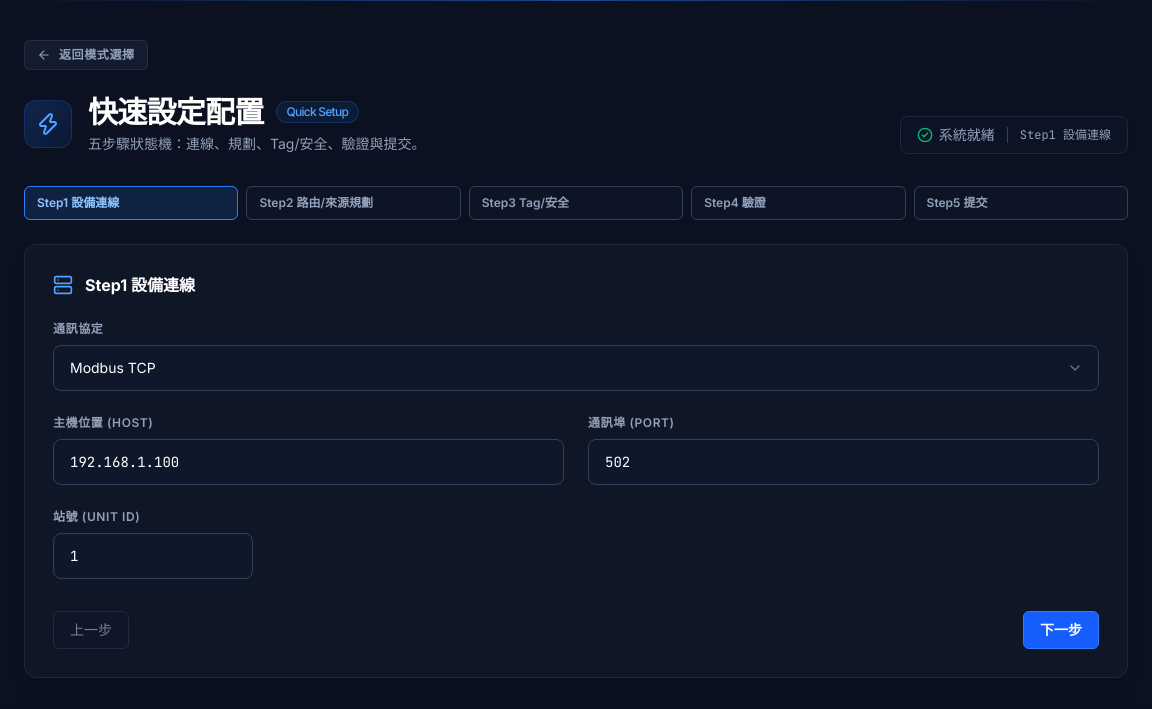
Scenario: GatewayQuickSetupPage › blocks moving to next step when required fields are invalid
Click the button with test id "step-next-btn": (1061, 630) [1023,611,1099,649]
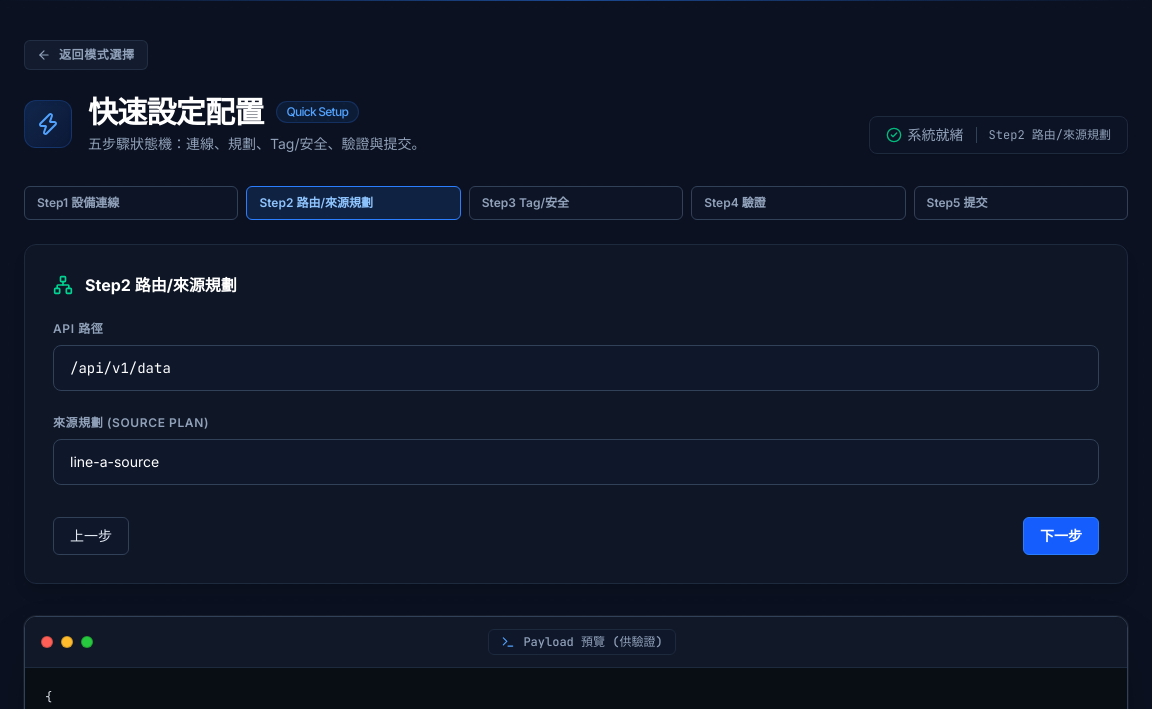
Expected: the heading "Step2 路由/來源規劃" is shown, [85,273,237,297]
Clear the field with test id "route-input": (576, 368) [53,345,1099,391]
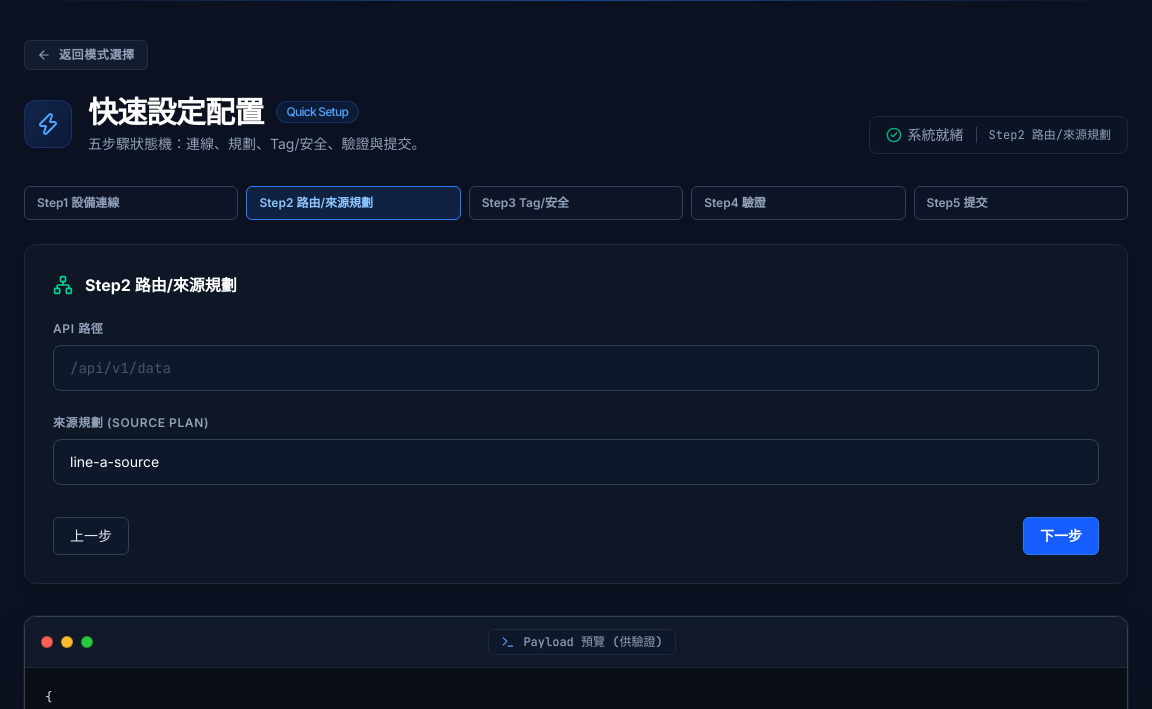
Clear the field with test id "source-input": (576, 462) [53,439,1099,485]
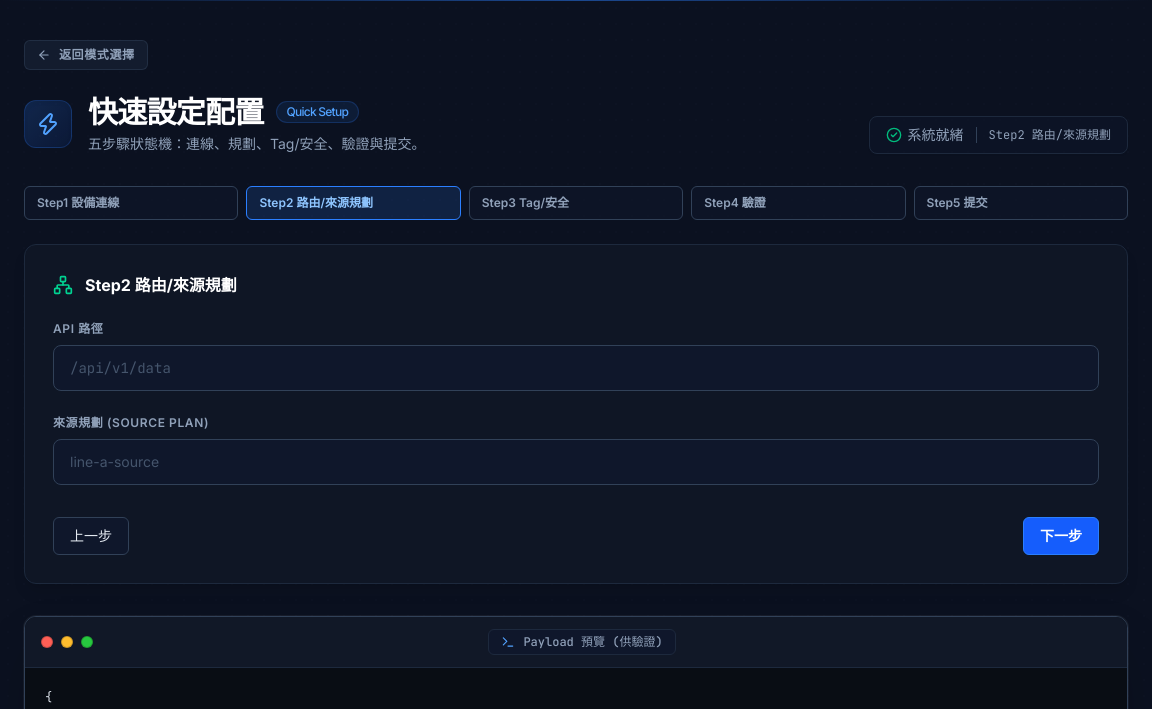
Click the button with test id "step-next-btn": (1061, 536) [1023,517,1099,555]
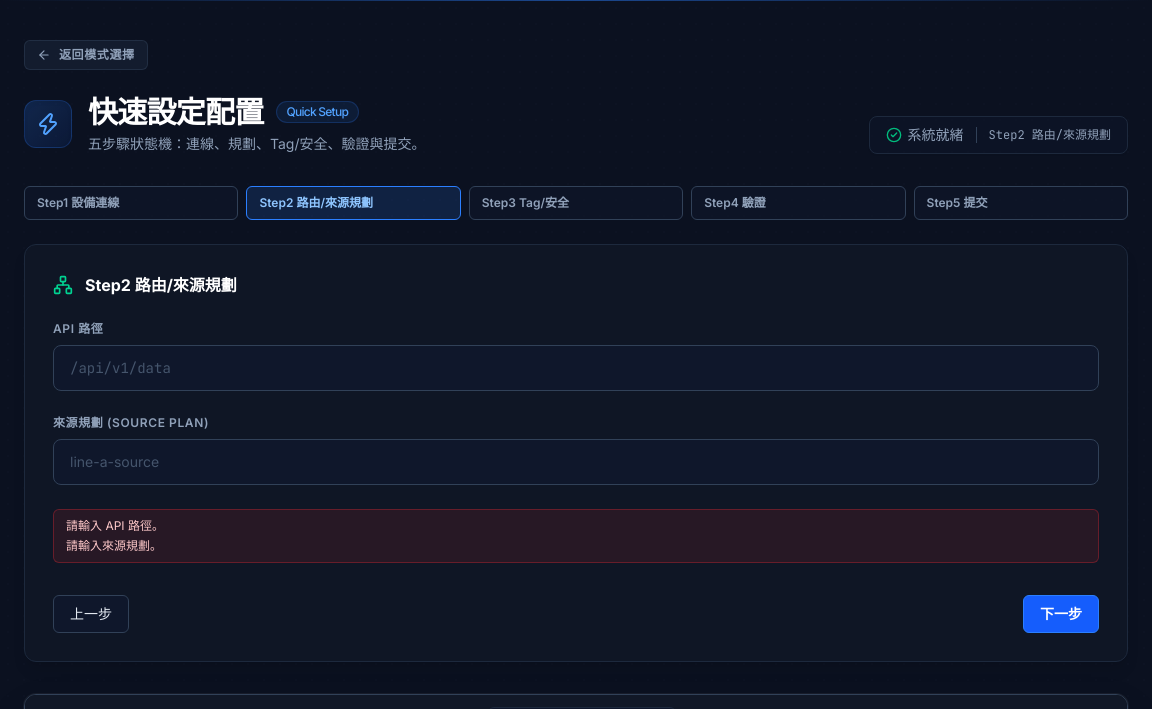
Expected: the heading "Step2 路由/來源規劃" is shown, [85,273,237,297]
Expected: the element with test id "step-error-message" shows "請輸入 API 路徑", [66,518,164,533]
